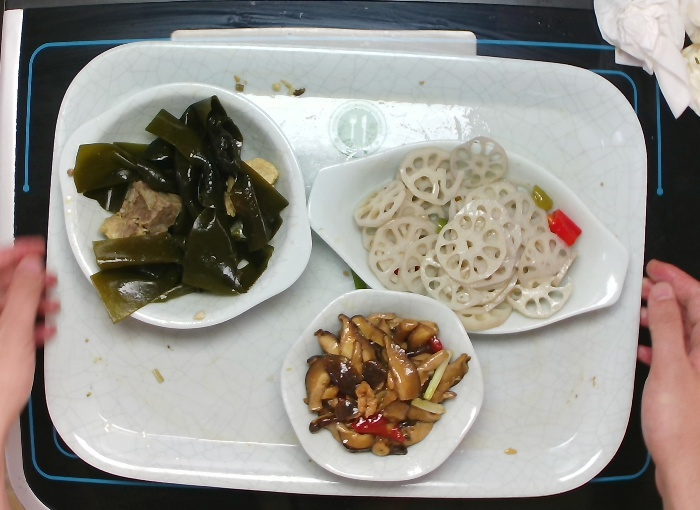JYsf-Shuang_Er_Wan: (53, 75, 318, 330)
JYsf-Yu_Pan: (300, 134, 634, 336)
WCQzf-Hua_Duo_Wan: (274, 279, 487, 487)
